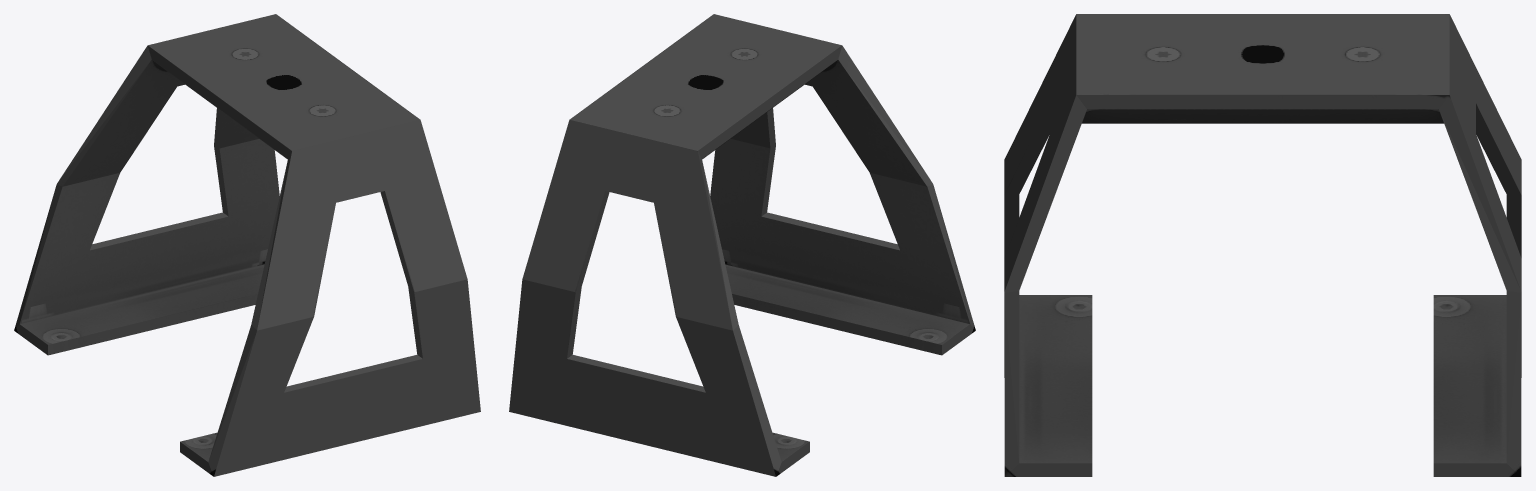
Rendered from handle.dae.
The picture shows the model from 3 angles, left to right: view 1: azimuth 30°, elevation 25°; view 2: azimuth 150°, elevation 25°; view 3: azimuth 270°, elevation 25°; orthographic projection. The views are drawn at different scales.
Parts seen in each view (by area): view 1: Cube; view 2: Cube; view 3: Cube.
Boxes of the visible parts, <box> form: Cube: <box>14,14,480,476</box>; Cube: <box>509,14,975,476</box>; Cube: <box>1004,14,1521,476</box>.
Bounding box in the file's own units: 0.0998 × 0.1297 × 0.0999.
Materials: 1 (1 with a texture image).
